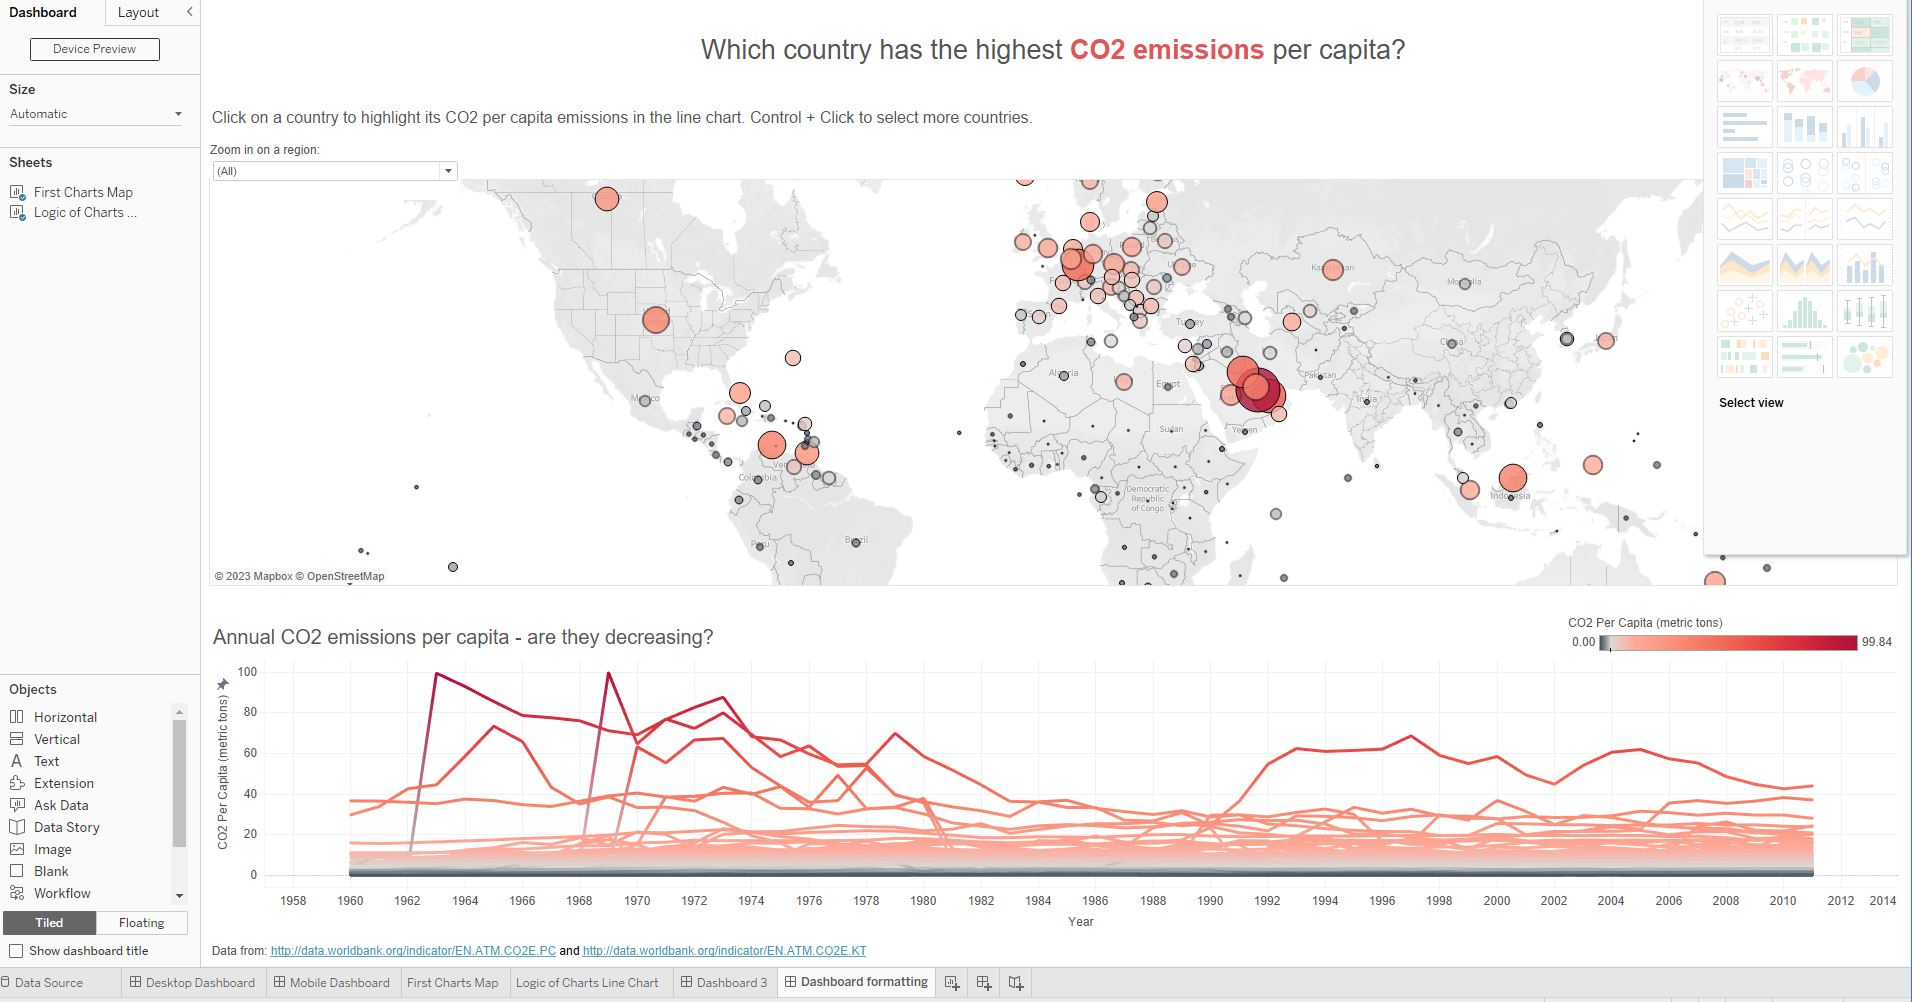

The dashboard page shown, as its layout file describes it:
{"tool":"tableau","page":{"name":"Dashboard formatting","canvas":[1000,1000],"units":"permille","ordinal":1},"visuals":[{"type":"title","box":[0,0,996.7,112.6]},{"type":"text","box":[0,112.6,996.7,45.5]},{"type":"filter","title":"First Charts Map","param":"[excel-direct.1g8hfat1w6mf6w11vdvqd0zzesgp].[attr:Region:nk]","box":[5,149,147,59.2]},{"type":"worksheet","title":"First Charts Map","mark":"Automatic","box":[0,158.1,996.7,457.4]},{"type":"blank","box":[0,615.5,996.7,27.9]},{"type":"legend","title":"Logic of Charts Line Chart","param":"[excel-direct.1g8hfat1w6mf6w11vdvqd0zzesgp].[sum:CO2 Per Capita (metric tons):qk","box":[800,638.5,192.7,74.2]},{"type":"worksheet","title":"Logic of Charts Line Chart","mark":"Automatic","rows":["CO2 Per Capita (metric tons)"],"cols":["Year"],"box":[0,643.4,996.7,325.9]},{"type":"text","box":[0,969.3,996.7,30.7]}]}

Visuals, with their boxes on the dashboard's canvas, which has no fixed pixel size, in thousandths of its width and height (x1, y1, x2, y2). These are canvas units, not pixel positions in the 1912x1002 screenshot, which may show the page scaled, cropped or inside an application window:
title: <box>0,0,997,113</box>
text: <box>0,113,997,158</box>
"First Charts Map" filter: <box>5,149,152,208</box>
"First Charts Map" worksheet: <box>0,158,997,616</box>
blank: <box>0,616,997,643</box>
"Logic of Charts Line Chart" legend: <box>800,638,993,713</box>
"Logic of Charts Line Chart" worksheet: <box>0,643,997,969</box>
text: <box>0,969,997,1000</box>
